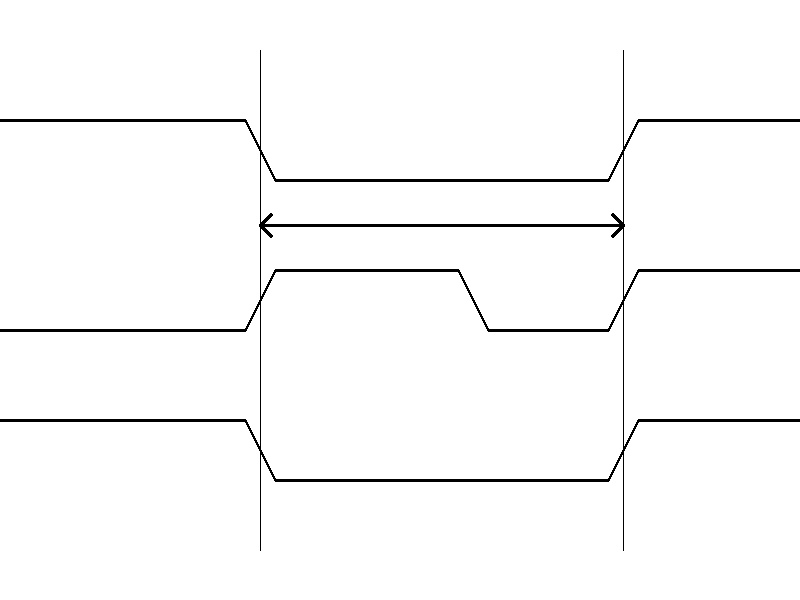double_arrow: (260, 210, 623, 240)
